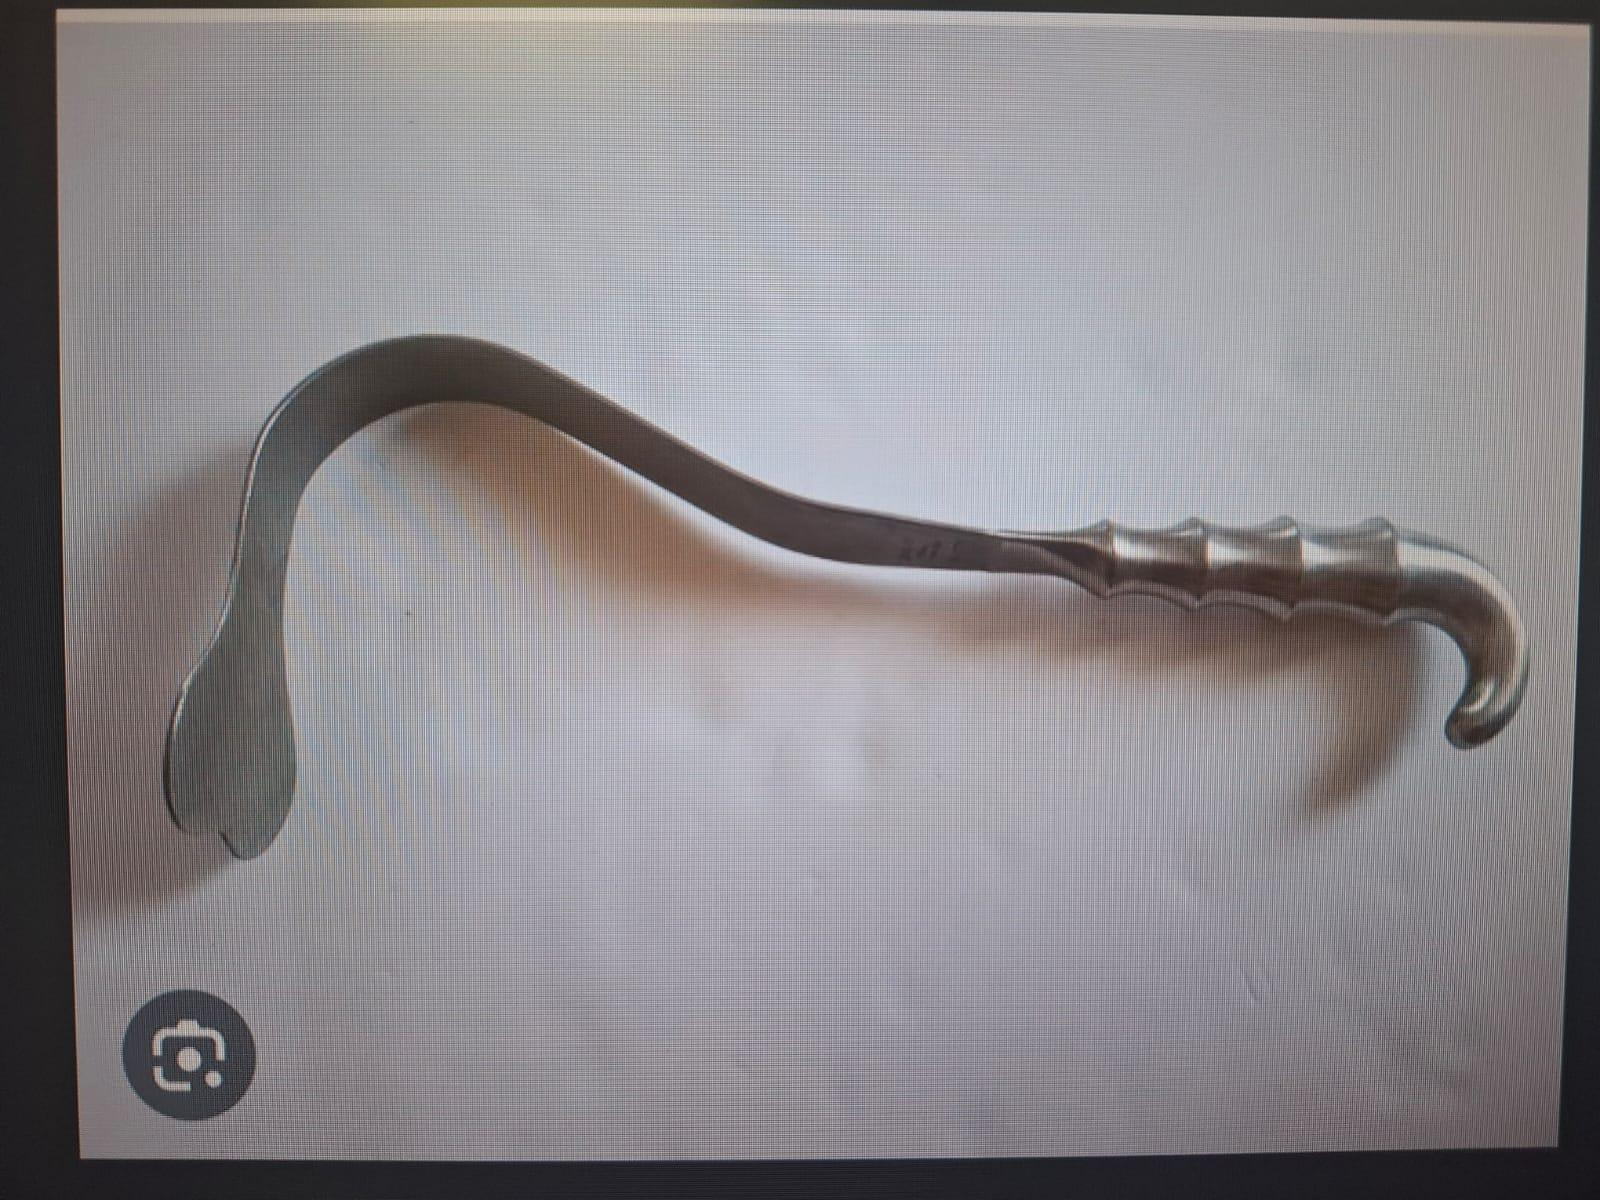Harrington Retractor: (140, 313, 1538, 882)
